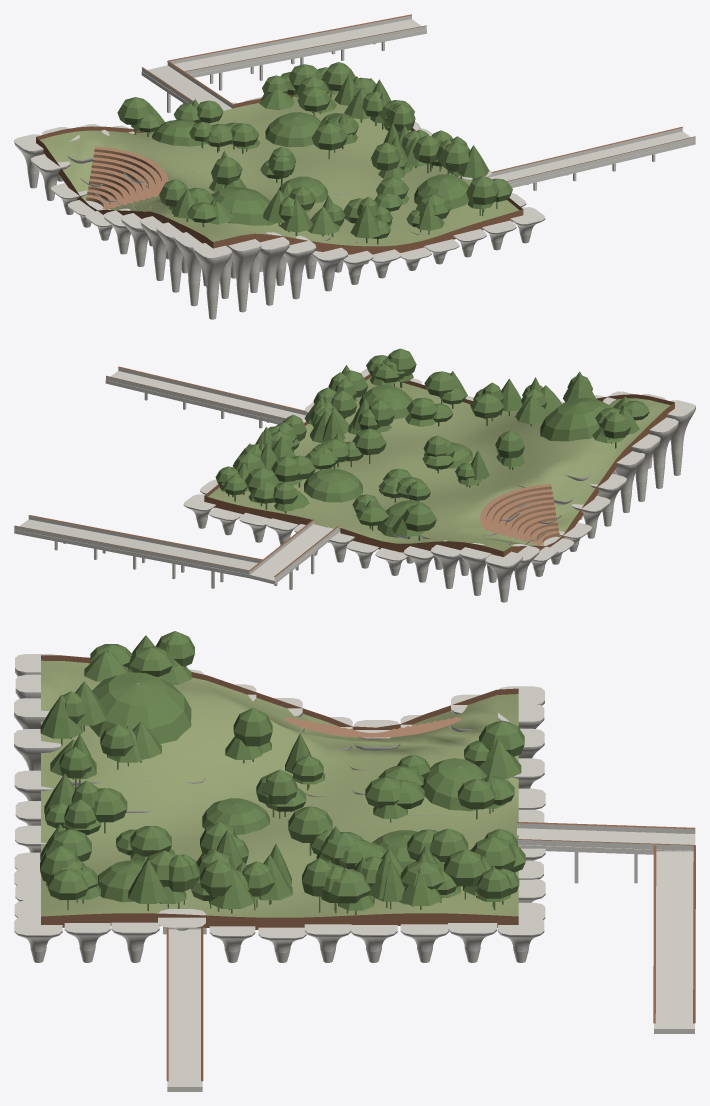
Rendered from nyc-little-island.detail.glb.
3 views of the same model, one above another, from view 1: azimuth 30°, elevation 25°; view 2: azimuth 150°, elevation 25°; view 3: azimuth 270°, elevation 25° (orthographic). The views are drawn at different scales.
Parts seen in each view (by area): view 1: Little Island; view 2: Little Island; view 3: Little Island.
Boxes of the visible parts, x1,y1,x2,y2 form: Little Island: (14,14,695,319); Little Island: (14,348,695,602); Little Island: (14,631,695,1091).
Bounding box in the file's own units: 155 × 26.73 × 125.
